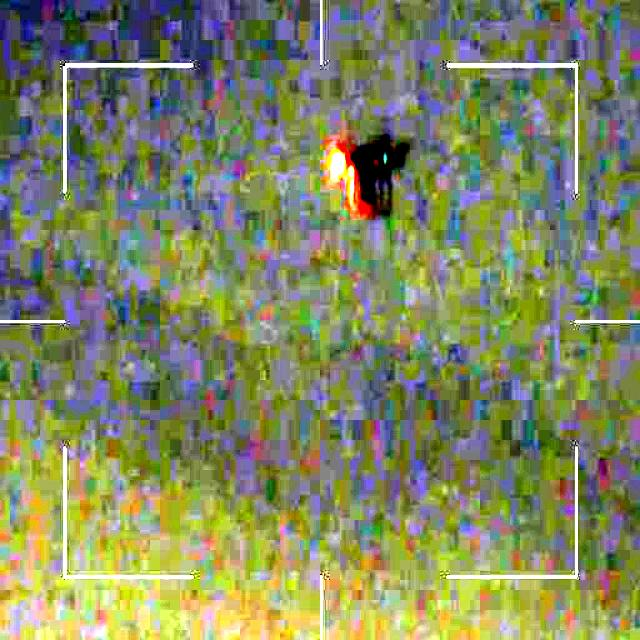bird: (321, 120, 410, 210)
